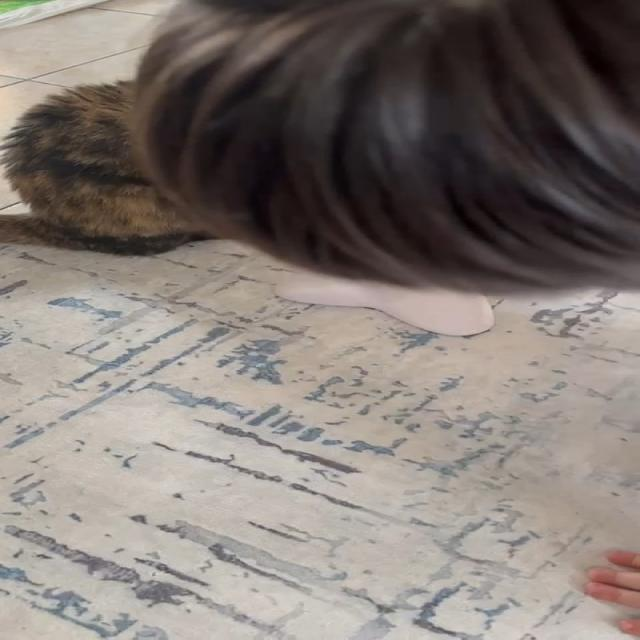authorized: (1, 0, 638, 337), (0, 78, 215, 256)
